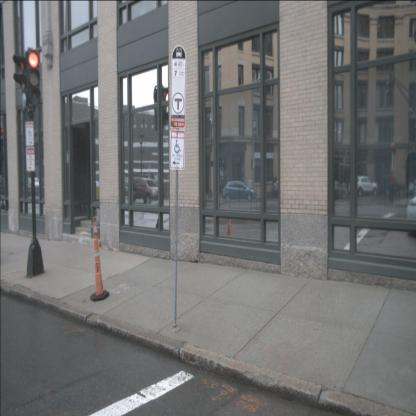cone: (90, 215, 110, 303), (223, 205, 236, 262)
